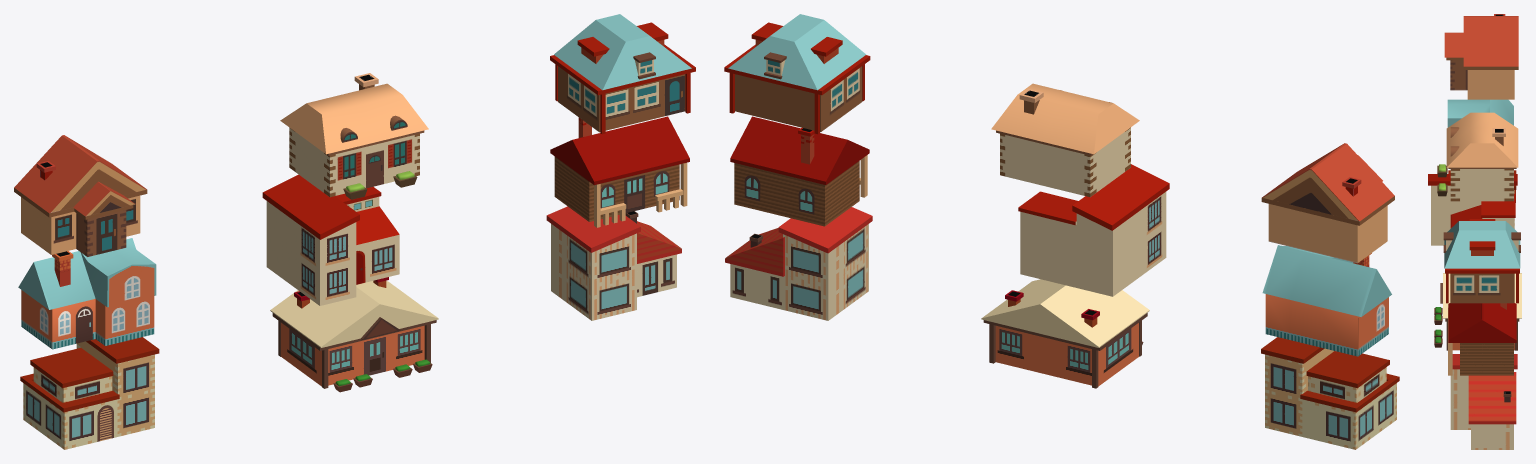
3 views of the same model, side by side, from view 1: azimuth 30°, elevation 25°; view 2: azimuth 150°, elevation 25°; view 3: azimuth 270°, elevation 25° (orthographic). The views are drawn at different scales.
Parts seen in each view (by area): view 1: BuildingE, BuildingH, BuildingB, BuildingC, BuildingG, BuildingD, BuildingF, BuildingA, BuildingI; view 2: BuildingE, BuildingH, BuildingC, BuildingB, BuildingI, BuildingG, BuildingF, BuildingD, BuildingA; view 3: BuildingB, BuildingC, BuildingA, BuildingI, BuildingF, BuildingE, BuildingD, BuildingH.
Part boxes in pixels (x1,y1,x2,y2): BuildingE: (262,174,399,305); BuildingH: (270,277,438,392); BuildingB: (280,73,428,199); BuildingC: (550,14,695,134); BuildingG: (20,337,159,449); BuildingD: (18,238,156,349); BuildingF: (550,116,689,227); BuildingA: (14,135,147,256); BuildingI: (546,206,681,320); BuildingE: (1018,164,1169,296); BuildingH: (981,279,1149,388); BuildingC: (724,14,870,134); BuildingB: (991,83,1139,197); BuildingI: (725,207,872,320); BuildingG: (1261,337,1399,449); BuildingF: (730,116,869,226); BuildingD: (1262,245,1391,356); BuildingA: (1261,143,1394,263); BuildingB: (1437,112,1518,201); BuildingC: (1443,219,1520,303); BuildingA: (1444,14,1518,99); BuildingI: (1450,354,1517,449); BuildingF: (1448,303,1516,375); BuildingE: (1428,174,1517,245); BuildingD: (1447,99,1513,127); BuildingH: (1434,273,1521,350).
Size of the model in its own units: 9.03 by 3.7 by 1.48.
9 materials, 9 textured.
